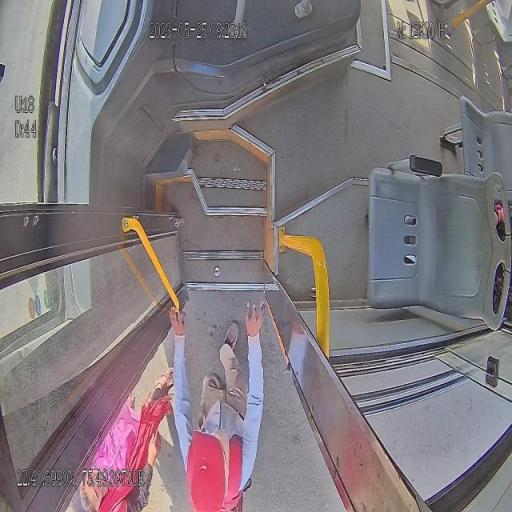persona: (168, 299, 266, 511), (66, 367, 174, 511)
